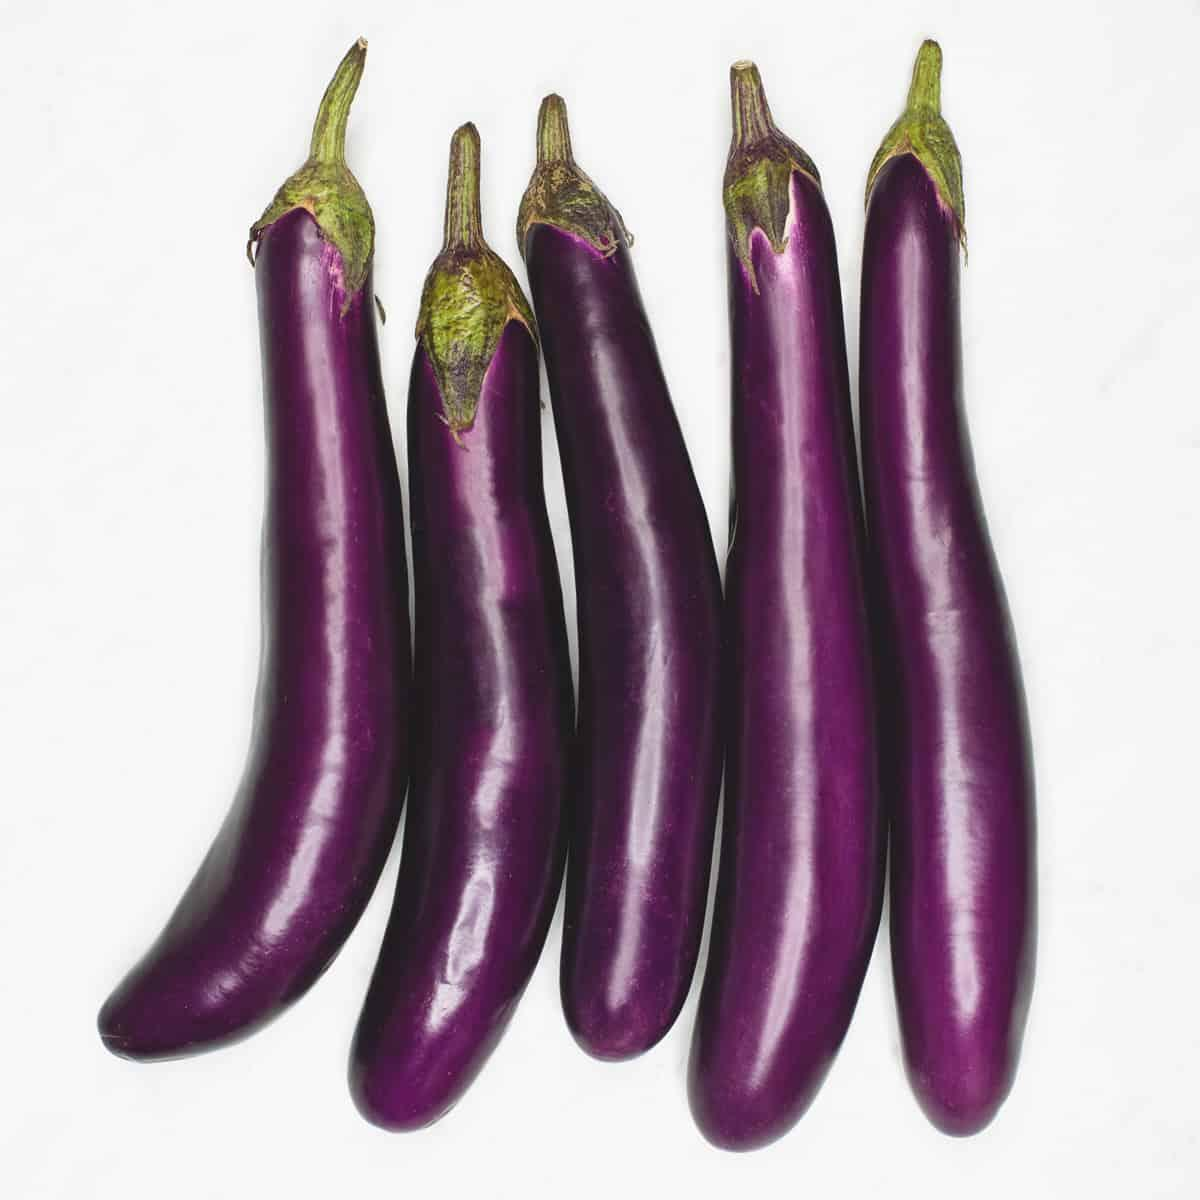eggplant: (98, 40, 410, 1059), (349, 122, 573, 1129), (688, 62, 886, 1149), (518, 95, 723, 1060), (862, 42, 1035, 1135)
